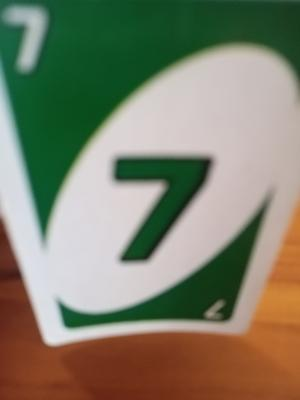green: (13, 6, 253, 323)
num_7: (6, 5, 53, 81)
